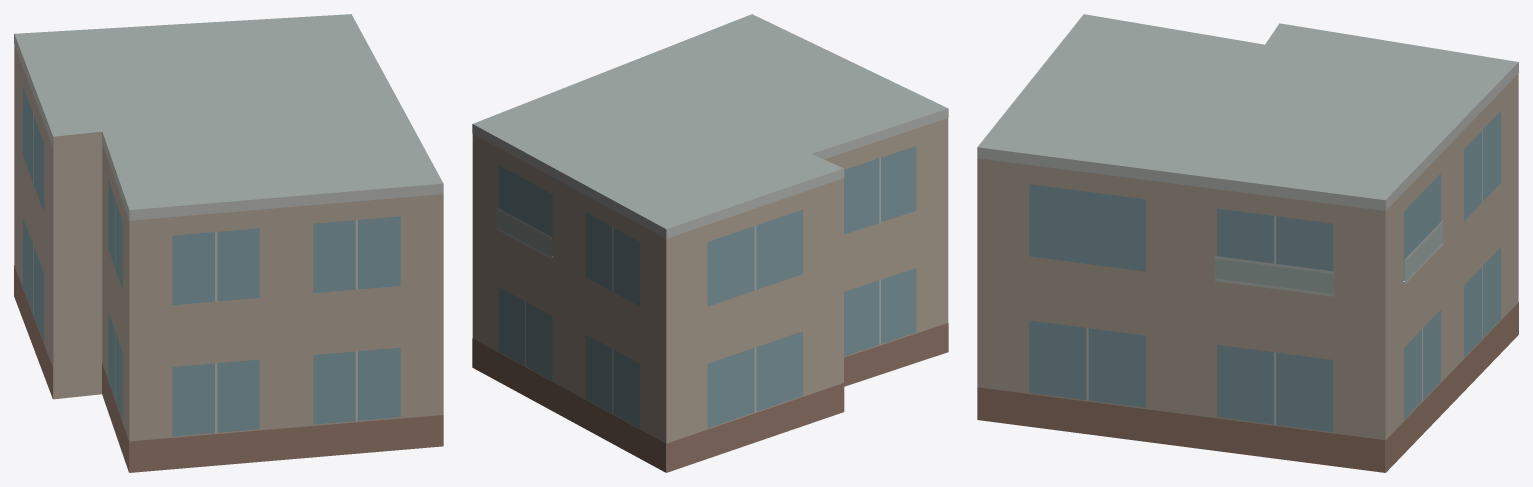
Rendered from survey-upis-32645654.glb.
The picture shows the model from 3 angles, left to right: view 1: azimuth 30°, elevation 25°; view 2: azimuth 150°, elevation 25°; view 3: azimuth 270°, elevation 25°; orthographic projection. The views are drawn at different scales.
Parts seen in each view (by area): view 1: survey-upis-32645654.tmp; view 2: survey-upis-32645654.tmp; view 3: survey-upis-32645654.tmp.
Part boxes in pixels (left/top/right/bottom): survey-upis-32645654.tmp: left=14, top=14, right=443, bottom=472; survey-upis-32645654.tmp: left=472, top=14, right=948, bottom=472; survey-upis-32645654.tmp: left=977, top=14, right=1518, bottom=472.
Size of the model in its own units: 8.95 by 6.1 by 10.99.
